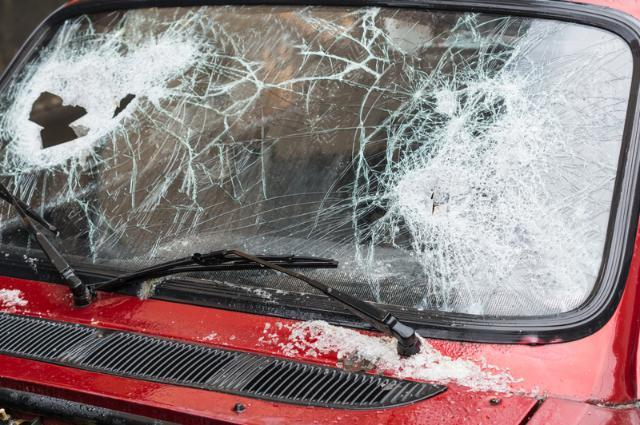Windshield: (2, 4, 589, 315)
